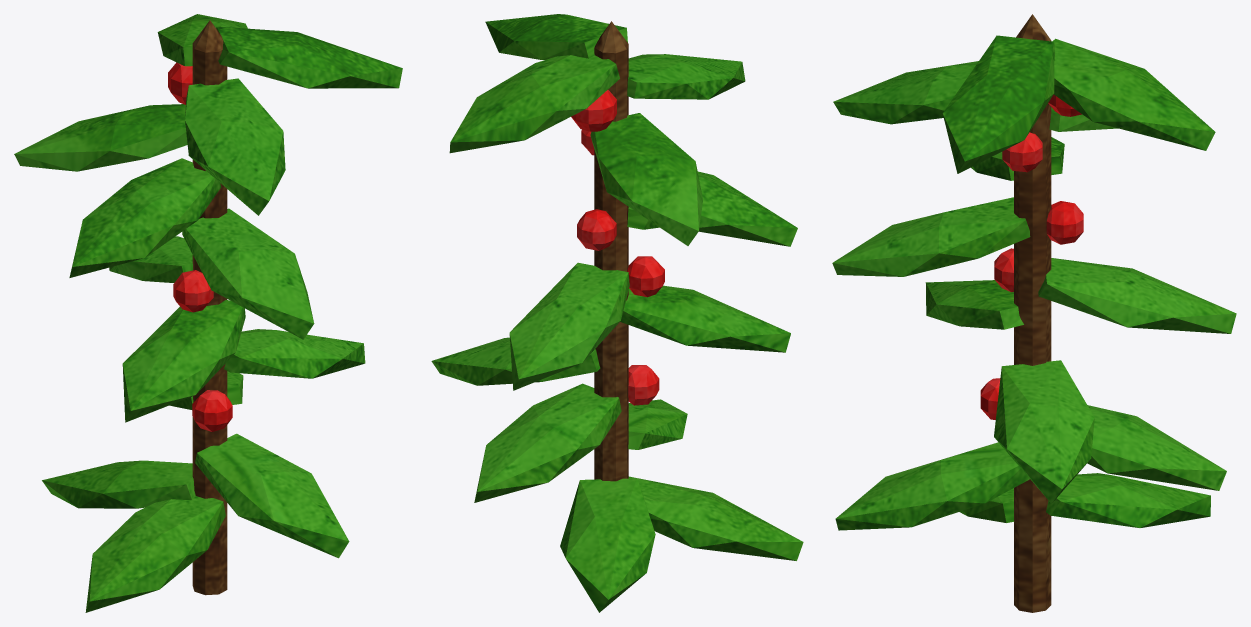
File: Tomatenpflanze.fbx
3 renders of one model, left to right at view 1: azimuth 30°, elevation 25°; view 2: azimuth 150°, elevation 25°; view 3: azimuth 270°, elevation 25°, orthographic. The views are drawn at different scales.
Parts seen in each view (by area): view 1: Holzstab; view 2: Holzstab; view 3: Holzstab.
Part boxes in pixels (left/top/right/bottom): Holzstab: left=14, top=14, right=402, bottom=612; Holzstab: left=431, top=14, right=803, bottom=612; Holzstab: left=832, top=14, right=1236, bottom=612.
Bounding box in the file's own units: 63.91 × 105 × 64.91.
